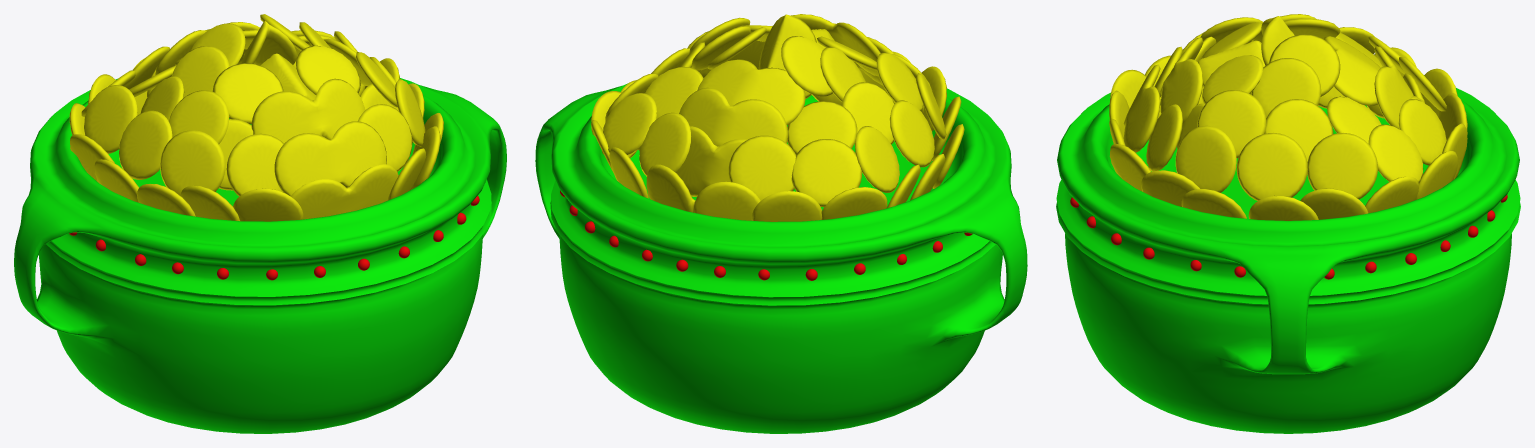
Rendered from Pot_of_gold_high.fbx.
The picture shows the model from 3 angles, left to right: view 1: azimuth 30°, elevation 25°; view 2: azimuth 150°, elevation 25°; view 3: azimuth 270°, elevation 25°; orthographic projection.
Visible parts, largest first — view 1: Pot_high, Coins_high, Rivet_high; view 2: Pot_high, Coins_high, Rivet_high; view 3: Pot_high, Coins_high, Rivet_high.
Boxes of the visible parts, bbox=[...] form: Pot_high: bbox=[14, 78, 506, 433]; Coins_high: bbox=[69, 14, 443, 221]; Rivet_high: bbox=[69, 196, 479, 280]; Pot_high: bbox=[535, 83, 1027, 433]; Coins_high: bbox=[591, 14, 964, 221]; Rivet_high: bbox=[560, 190, 972, 280]; Pot_high: bbox=[1056, 88, 1520, 433]; Coins_high: bbox=[1109, 14, 1467, 220]; Rivet_high: bbox=[1070, 195, 1507, 279].
Size of the model in its own units: 0.4149 by 0.348 by 0.3101.
